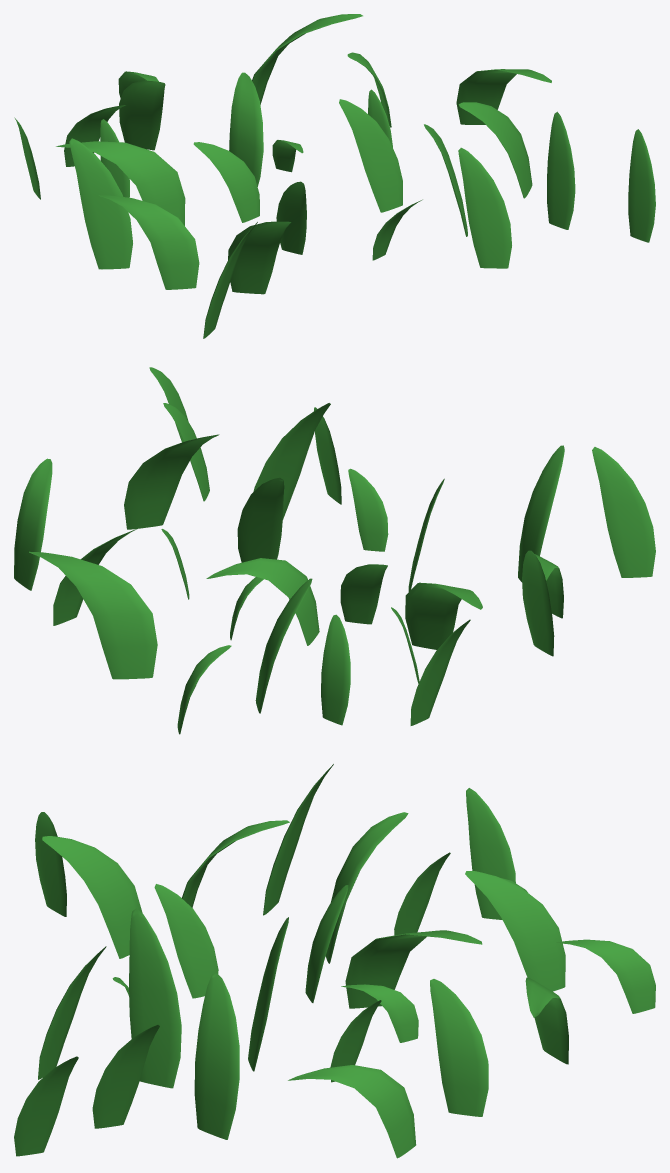
Rendered from grass clump 7.fbx.
3 views of the same model, one above another, from view 1: azimuth 30°, elevation 25°; view 2: azimuth 150°, elevation 25°; view 3: azimuth 270°, elevation 25° (orthographic). The views are drawn at different scales.
Parts seen in each view (by area): view 1: Grass Clump 7; view 2: Grass Clump 7; view 3: Grass Clump 7.
Part boxes in pixels (box(x1,y1,x2,y2)): Grass Clump 7: box(14, 14, 655, 338); Grass Clump 7: box(14, 367, 655, 734); Grass Clump 7: box(14, 764, 655, 1158).
Size of the model in its own units: 206 by 52.37 by 207.
